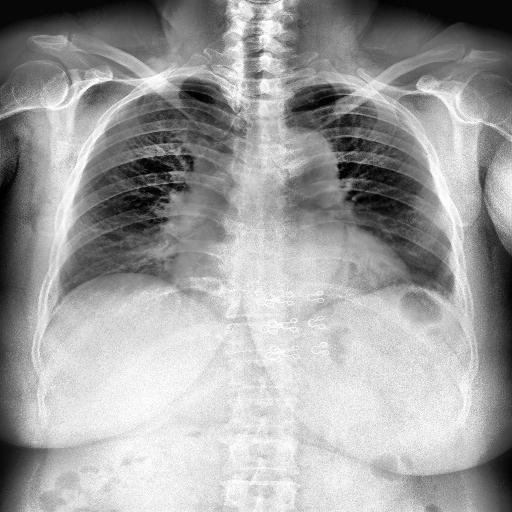0- Aortic enlargement: (265, 128, 341, 188), (262, 126, 340, 184), (269, 128, 339, 190)
11- Pleural thickening: (158, 73, 220, 86), (292, 80, 352, 90)
3- Cardiomegaly: (173, 246, 415, 334), (164, 256, 418, 310), (168, 245, 414, 296)
